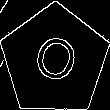O_S: (27, 30, 82, 91)
